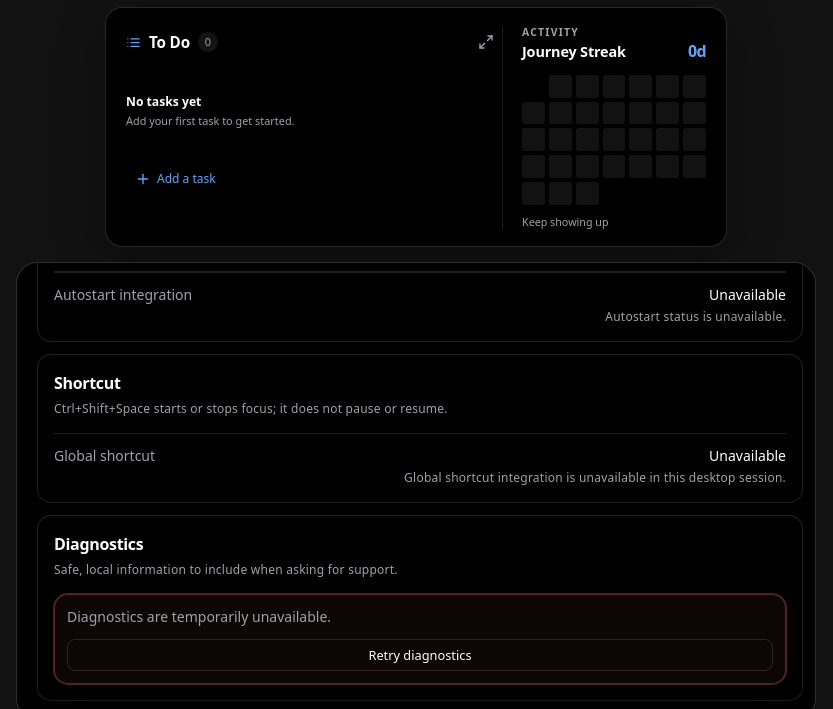
Test: Settings surface › offers a retry when diagnostics fail
The width and height of the screenshot is (833, 709).
(page scrolled)
Expected: the message shows "temporarily unavailable", [67,607,331,626]
Click the button "Retry diagnostics" at (420, 655), box [67,639,773,671]
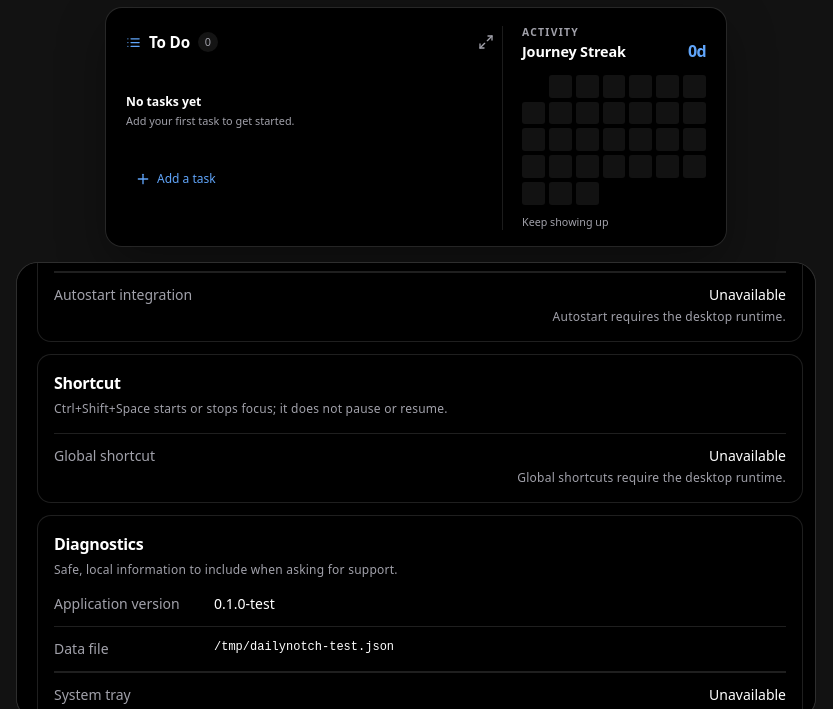
Expected: the text "0.1.0-test" is shown, [214,594,275,613]
